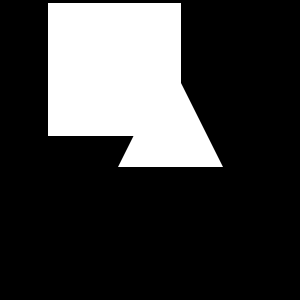circle: (48, 3, 181, 136)
triangle: (118, 62, 223, 167)
